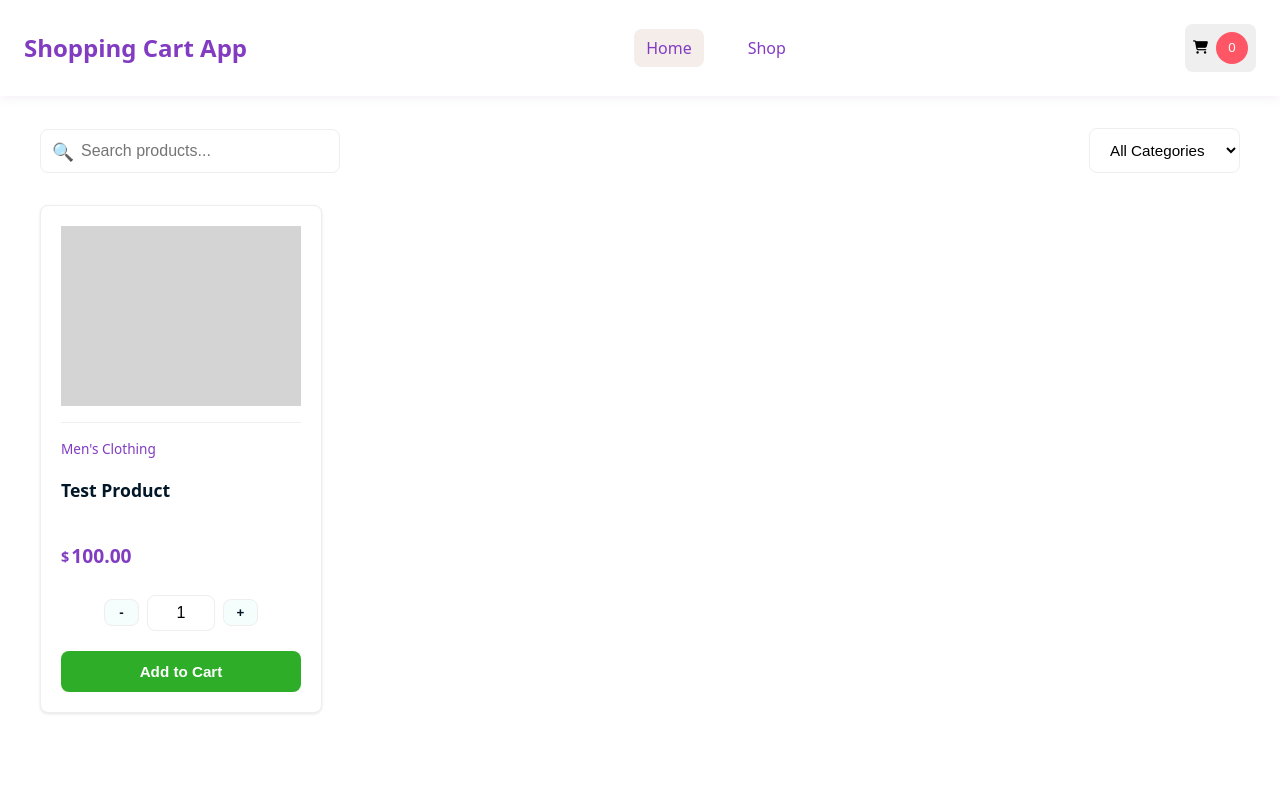
Scenario: filters product by search text
Expected: the heading "Test Product" is shown, [61, 478, 170, 502]
Type "nonexistent" into the field with placeholder "Search products..." at (190, 150), box [40, 128, 340, 172]
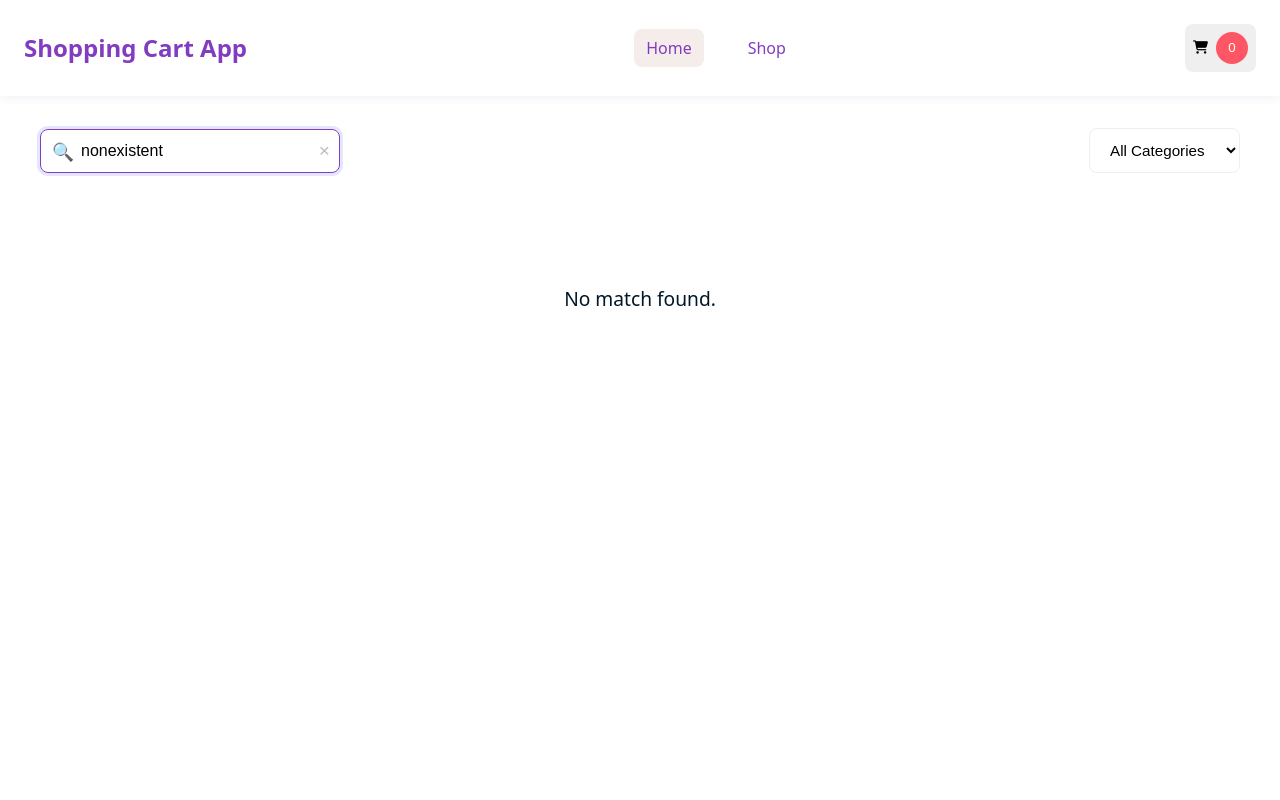
Now the text "No match found." is shown, box [564, 285, 716, 312]
Clear the field with placeholder "Search products..." at (190, 150), box [40, 128, 340, 172]
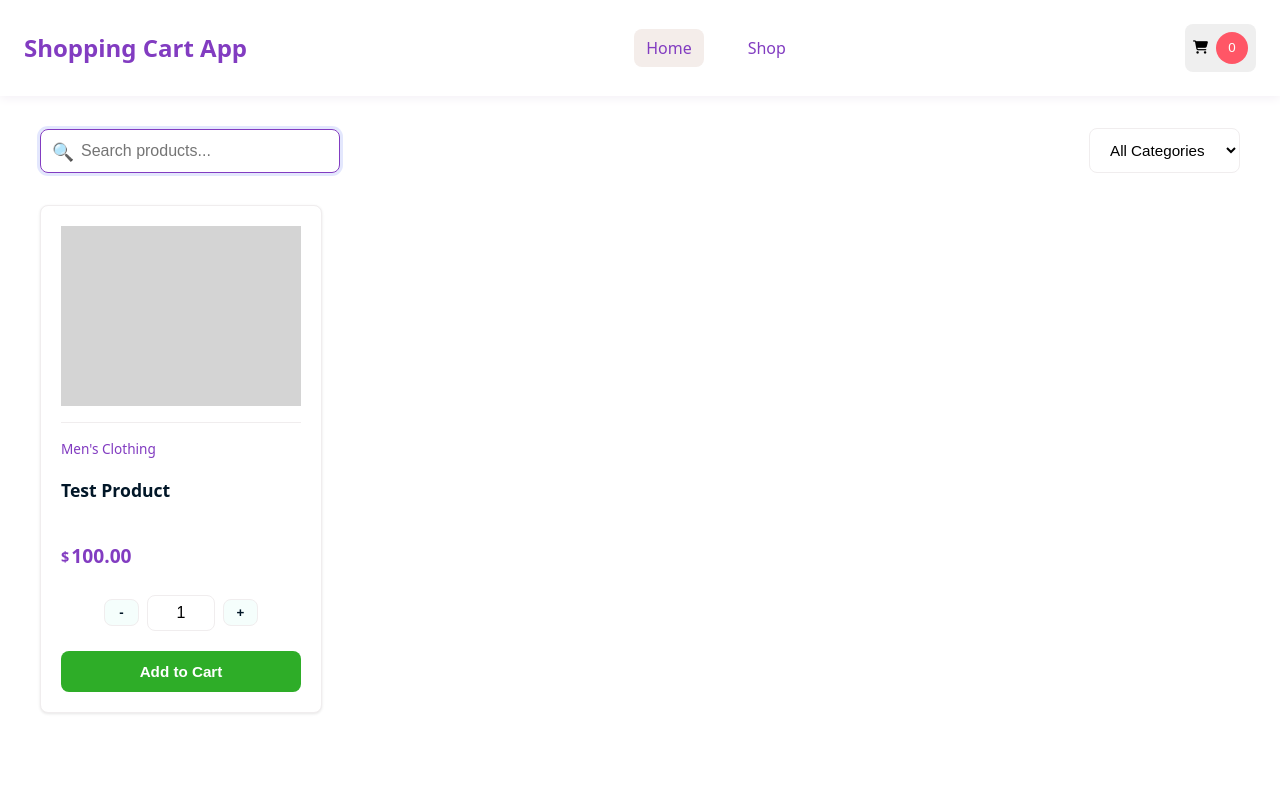
Now the heading "Test Product" is shown, box [61, 478, 170, 502]
